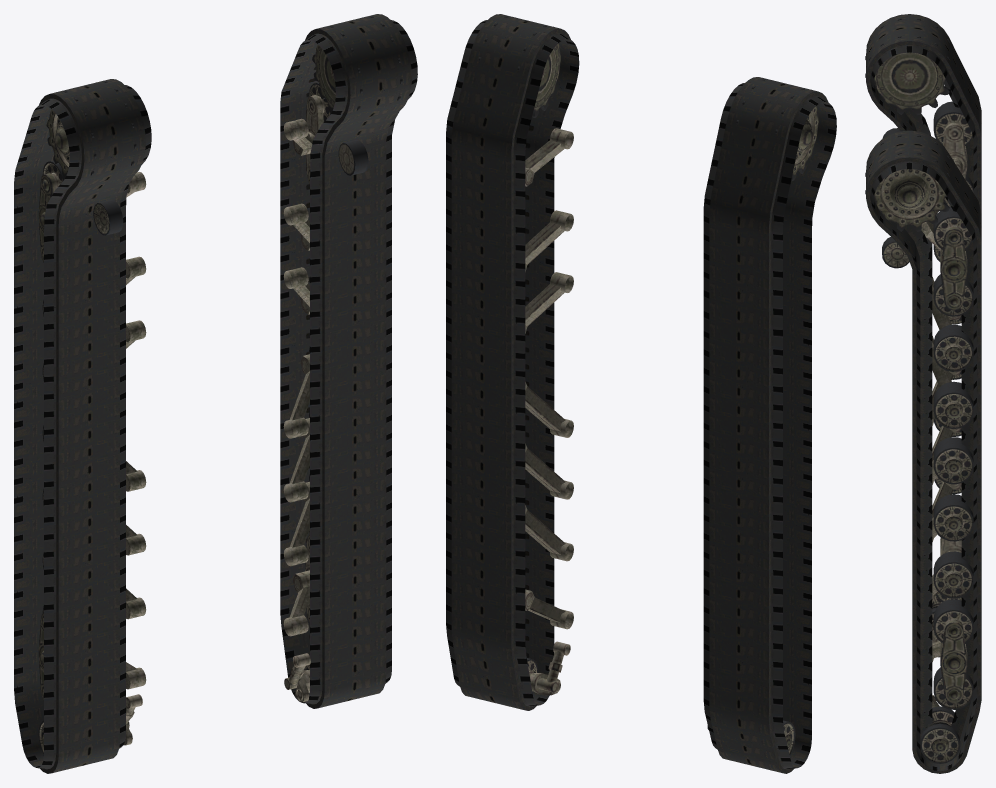
File: Chassis.glb
3 views of the same model, side by side, from view 1: azimuth 30°, elevation 25°; view 2: azimuth 150°, elevation 25°; view 3: azimuth 270°, elevation 25° (orthographic). The views are drawn at different scales.
Parts seen in each view (by area): view 1: set_0_group_0, set_1_group_0, set_3_group_0, set_2_group_0; view 2: set_0_group_0, set_1_group_0, set_3_group_0, set_2_group_0; view 3: set_1_group_0, set_3_group_0, set_2_group_0, set_0_group_0.
Part boxes in pixels (box(x1,y1,x2,y2)): set_0_group_0: box(14, 79, 151, 773); set_1_group_0: box(280, 14, 417, 708); set_3_group_0: box(283, 16, 402, 702); set_2_group_0: box(38, 81, 146, 754); set_0_group_0: box(703, 77, 836, 773); set_1_group_0: box(446, 14, 579, 710); set_3_group_0: box(478, 16, 573, 695); set_2_group_0: box(707, 79, 818, 755); set_1_group_0: box(866, 130, 981, 773); set_3_group_0: box(865, 135, 973, 763); set_2_group_0: box(865, 18, 973, 643); set_0_group_0: box(866, 14, 981, 657).
Size of the model in its own units: 3.4 by 6.42 by 1.1.
Materials: 4 (4 with a texture image).
